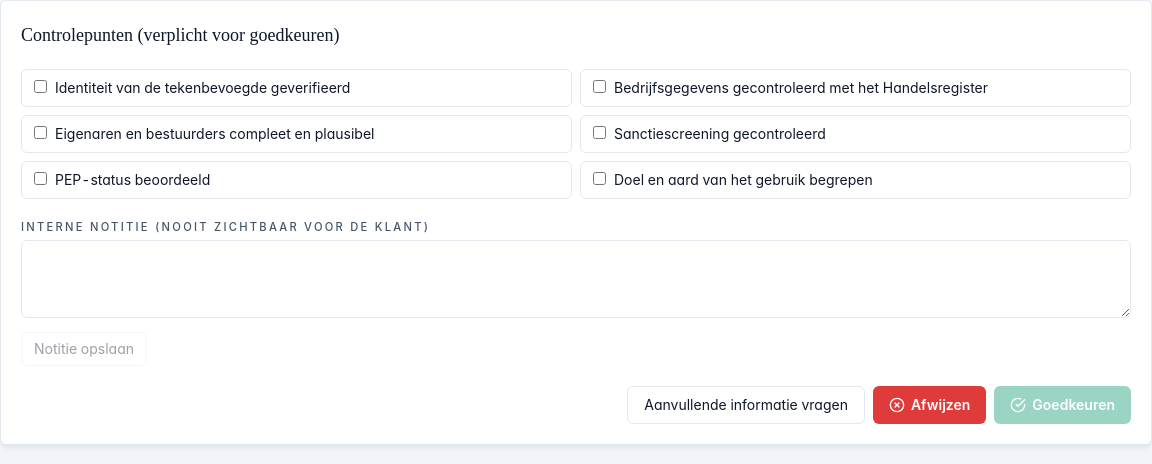
KybBeoordeelPaneel › Goedkeuren is uit tot alle 6 controlepunten zijn afgevinkt
Expected: the button "Goedkeuren" is disabled, x1=994 y1=386 x2=1131 y2=424
Step 1. Click the checkbox labelled "Identiteit van de tekenbevoegde geverifieerd" → click(40, 86), box x1=34 y1=80 x2=47 y2=93
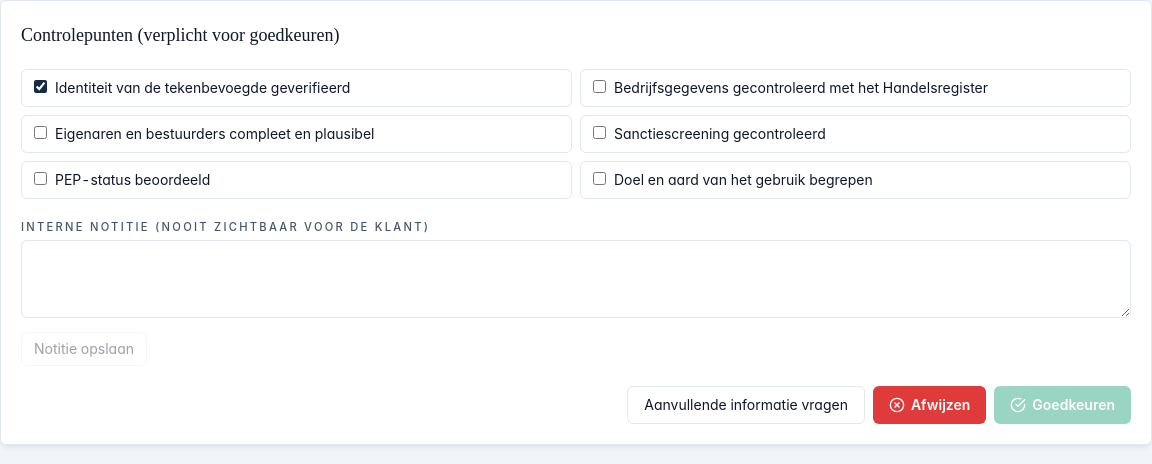
Step 2. Click the checkbox labelled "Bedrijfsgegevens gecontroleerd met het Handelsregister" → click(600, 86), box x1=593 y1=80 x2=606 y2=93
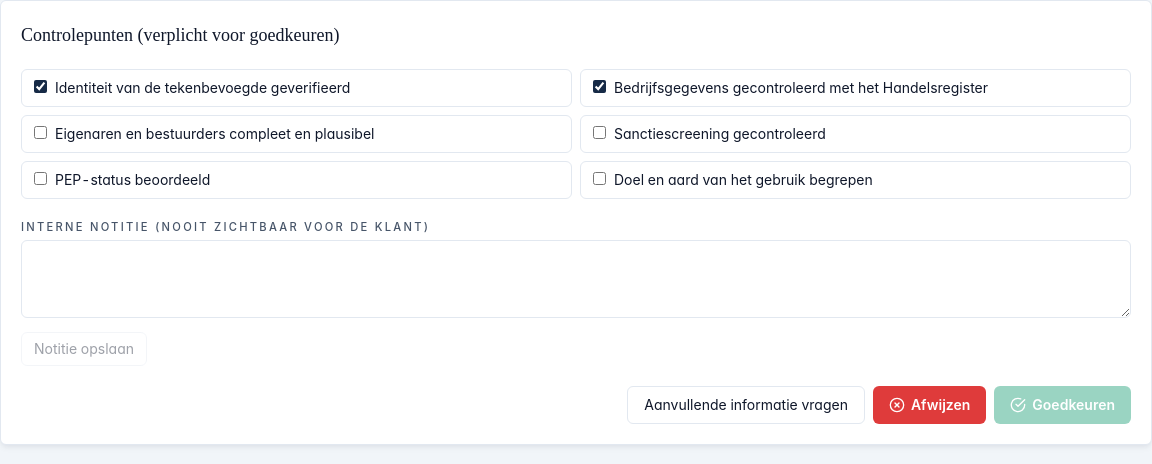
Step 3. Click the checkbox labelled "Eigenaren en bestuurders compleet en plausibel" → click(40, 132), box x1=34 y1=126 x2=47 y2=139
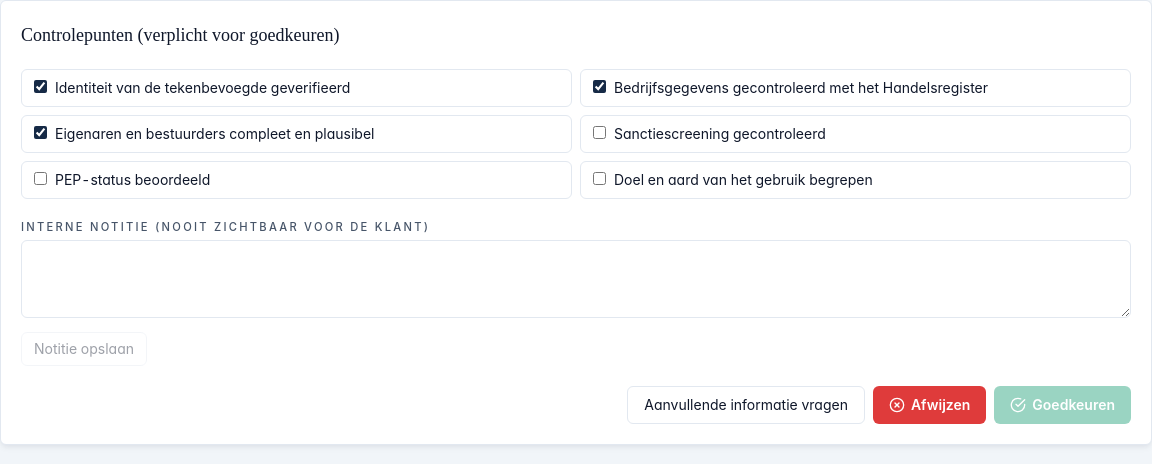
Step 4. Click the checkbox labelled "Sanctiescreening gecontroleerd" → click(600, 132), box x1=593 y1=126 x2=606 y2=139
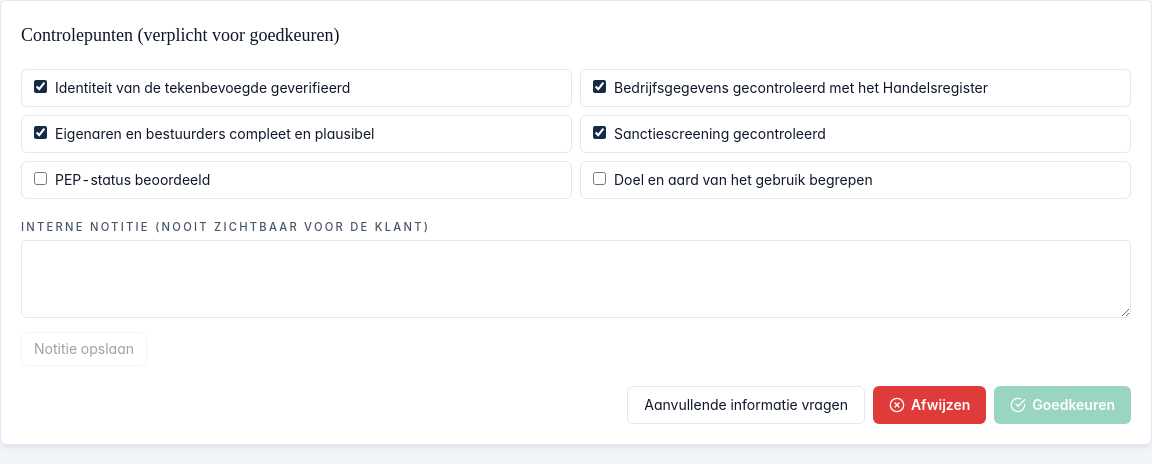
Step 5. Click the checkbox labelled "PEP-status beoordeeld" → click(40, 178), box x1=34 y1=172 x2=47 y2=185
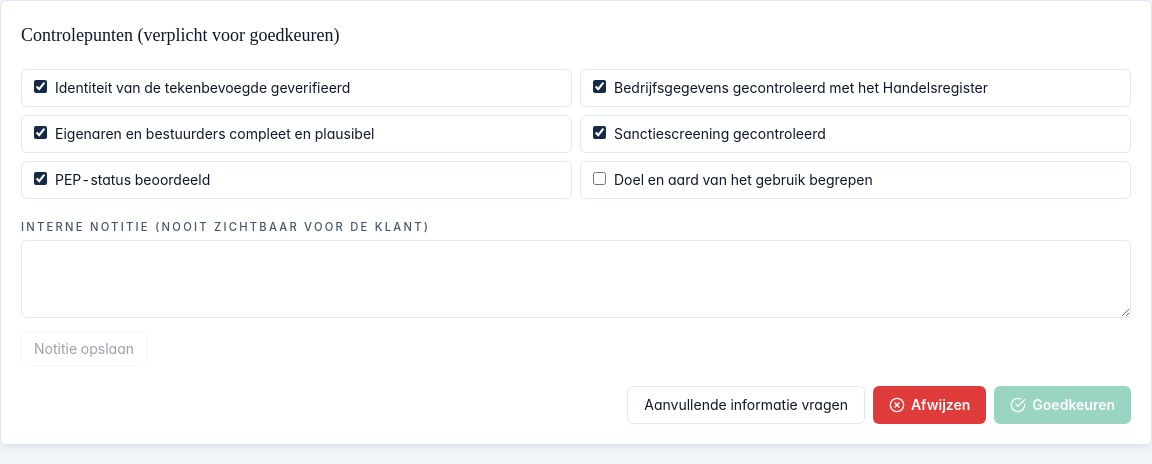
Expected: the button "Goedkeuren" is disabled, x1=994 y1=386 x2=1131 y2=424
Step 6. Click the checkbox labelled "Doel en aard van het gebruik begrepen" → click(600, 178), box x1=593 y1=172 x2=606 y2=185
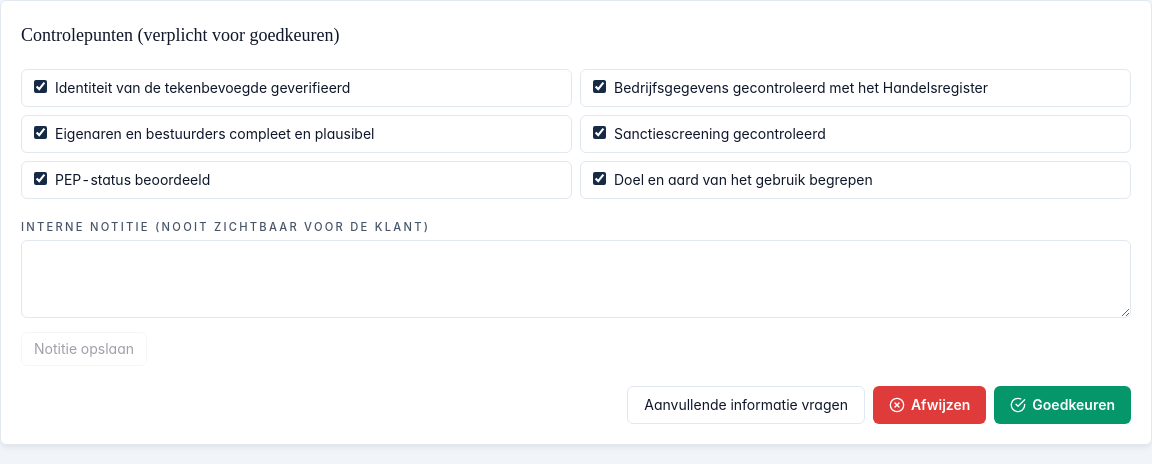
Expected: the button "Goedkeuren" is enabled, x1=994 y1=386 x2=1131 y2=424
